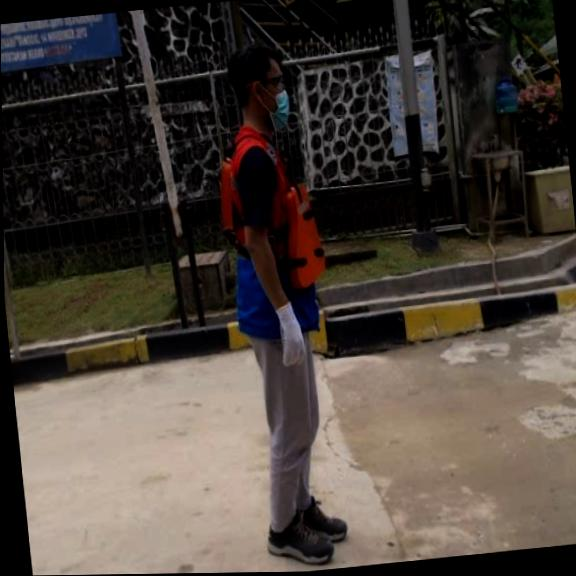safety_vest: (210, 149, 329, 300)
